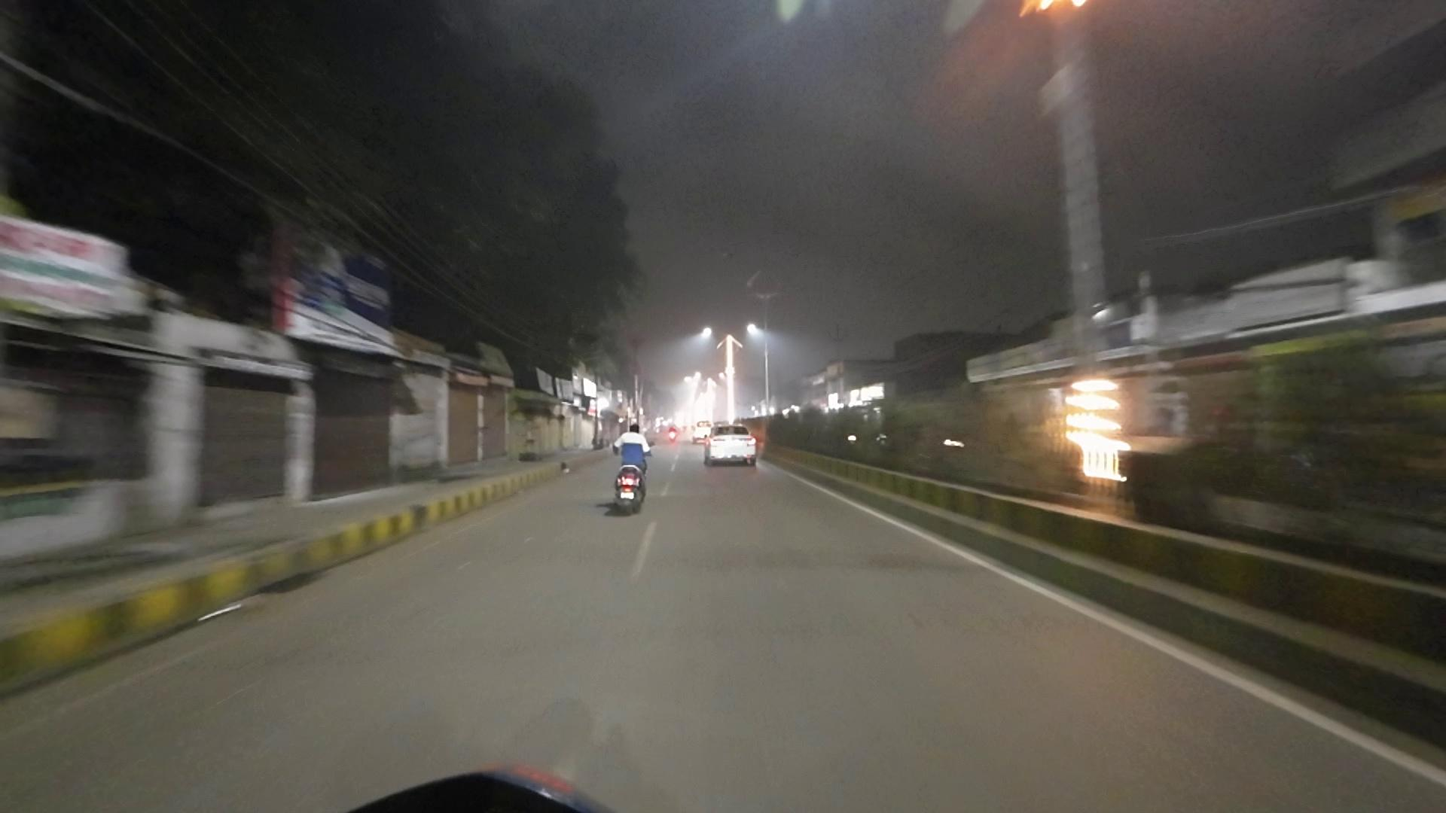streetlight: (721, 248, 763, 263), (770, 247, 802, 262)
